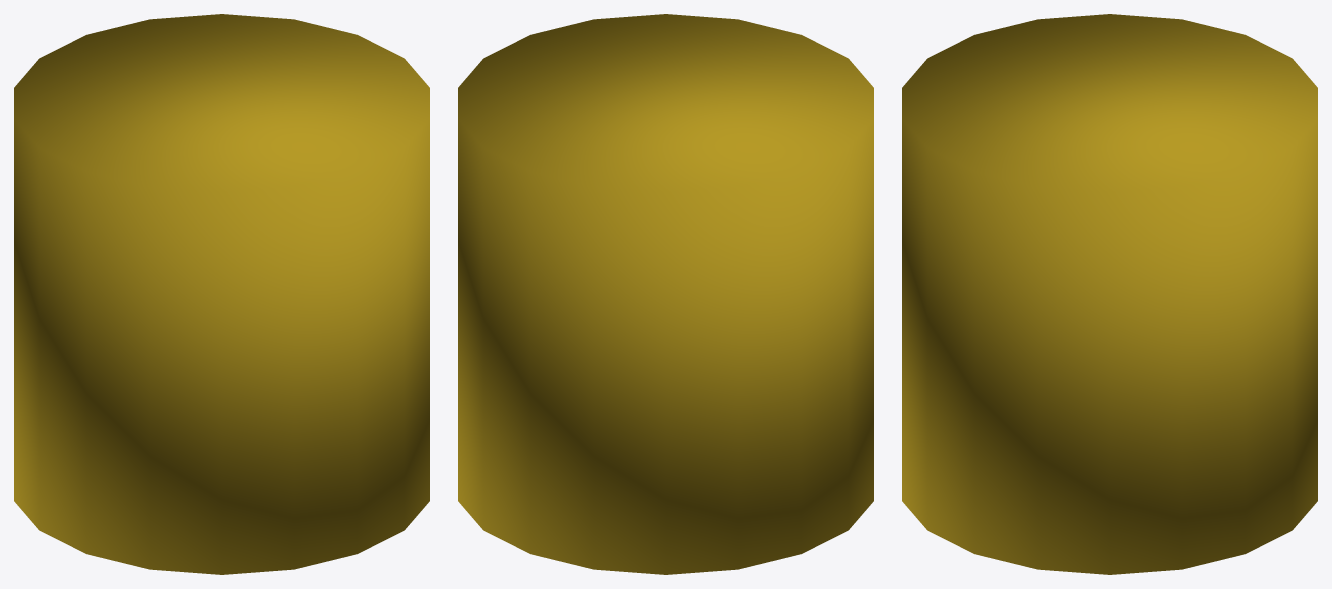
The picture shows the model from 3 angles, left to right: view 1: azimuth 30°, elevation 25°; view 2: azimuth 150°, elevation 25°; view 3: azimuth 270°, elevation 25°; orthographic projection.
Visible parts, largest first — view 1: Cylinder001; view 2: Cylinder001; view 3: Cylinder001.
Part boxes in pixels (bbox=[...]): Cylinder001: bbox=[14, 14, 429, 574]; Cylinder001: bbox=[458, 14, 873, 574]; Cylinder001: bbox=[902, 14, 1317, 574].
Size of the model in its own units: 20 by 20 by 19.7.
